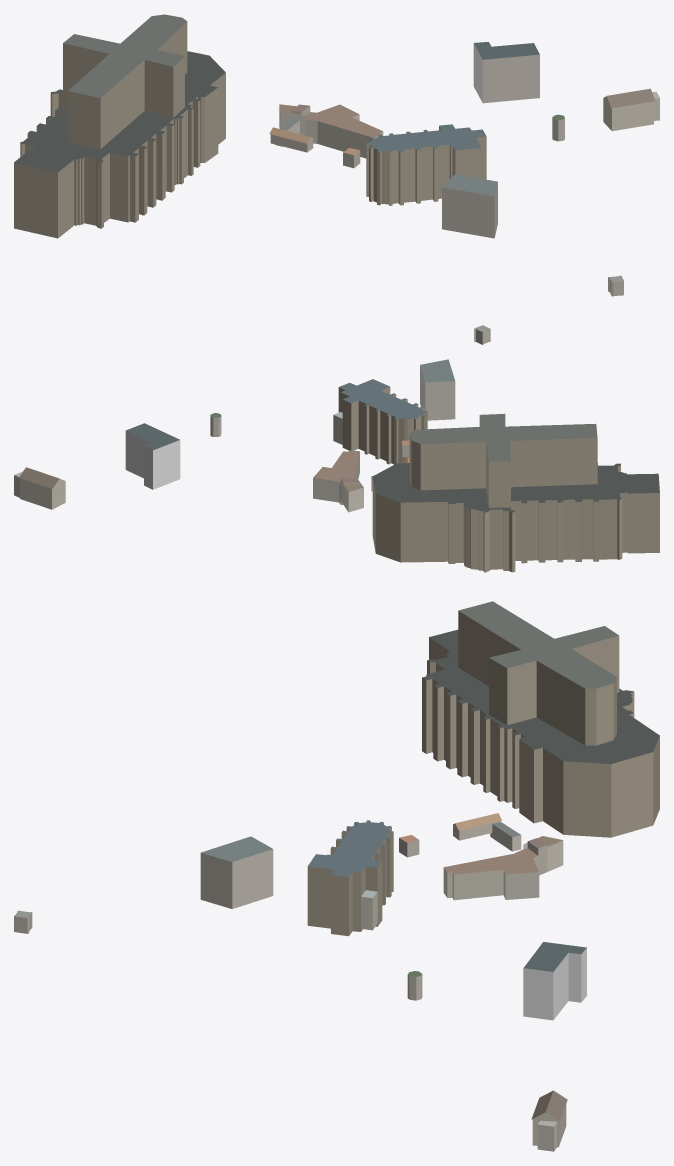
The picture shows the model from 3 angles, top to bottom: view 1: azimuth 30°, elevation 25°; view 2: azimuth 150°, elevation 25°; view 3: azimuth 270°, elevation 25°; orthographic projection. The views are drawn at different scales.
Visible parts, largest first — view 1: tuile; view 2: tuile; view 3: tuile.
Boxes of the visible parts, x1,y1,x2,y2 form: tuile: (14, 14, 659, 296); tuile: (14, 325, 659, 572); tuile: (14, 601, 659, 1151).
Bounding box in the file's own units: 259 × 70.86 × 192.
